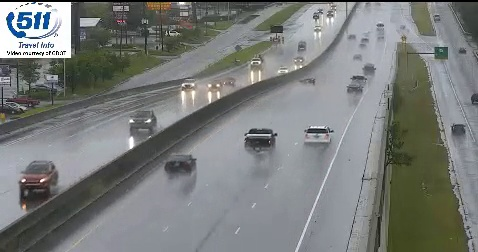car: (245, 128, 276, 153), (165, 154, 196, 175), (303, 126, 330, 144), (346, 84, 362, 96)
